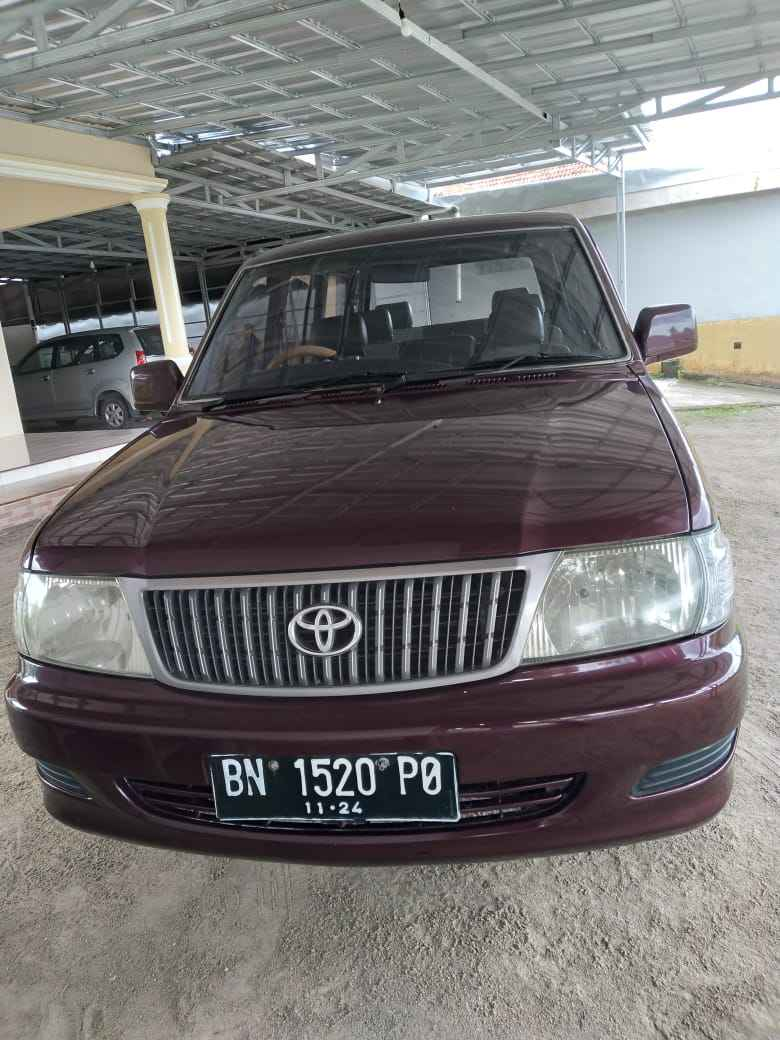plate: (211, 748, 452, 832)
